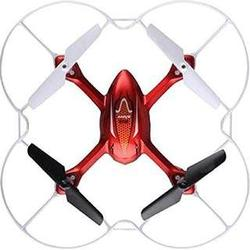drone: (1, 1, 249, 250)
